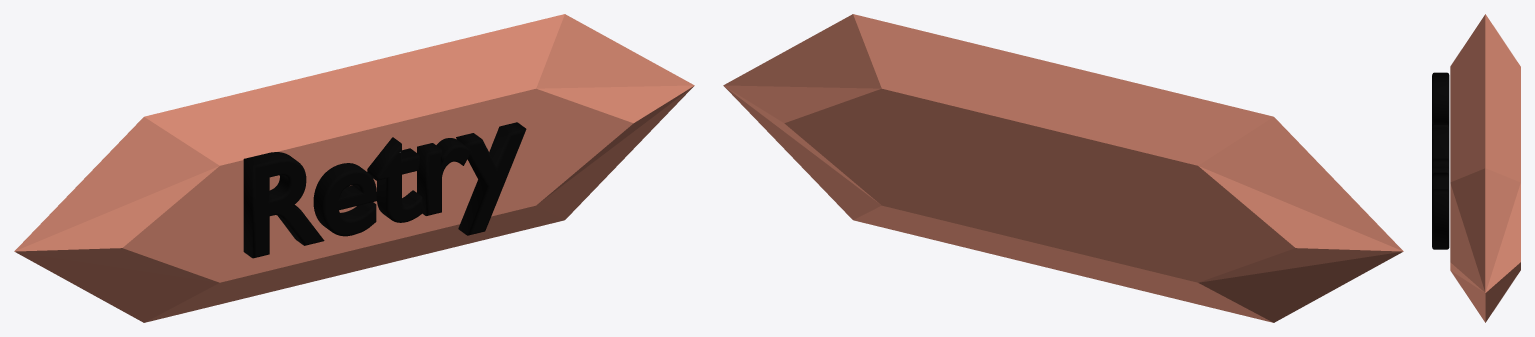
The model's file is Retry.obj.
The picture shows the model from 3 angles, left to right: view 1: azimuth 30°, elevation 25°; view 2: azimuth 150°, elevation 25°; view 3: azimuth 270°, elevation 25°; orthographic projection. The views are drawn at different scales.
Visible parts, largest first — view 1: 立方体, テキスト; view 2: 立方体; view 3: 立方体, テキスト.
Part boxes in pixels (left/top/right/bottom): 立方体: left=14, top=14, right=694, bottom=322; テキスト: left=243, top=122, right=526, bottom=258; 立方体: left=723, top=14, right=1403, bottom=322; 立方体: left=1450, top=14, right=1520, bottom=322; テキスト: left=1432, top=72, right=1449, bottom=249.
Size of the model in its own units: 2.07 by 0.6 by 0.3117.
Materials: 1 (1 with a texture image).
